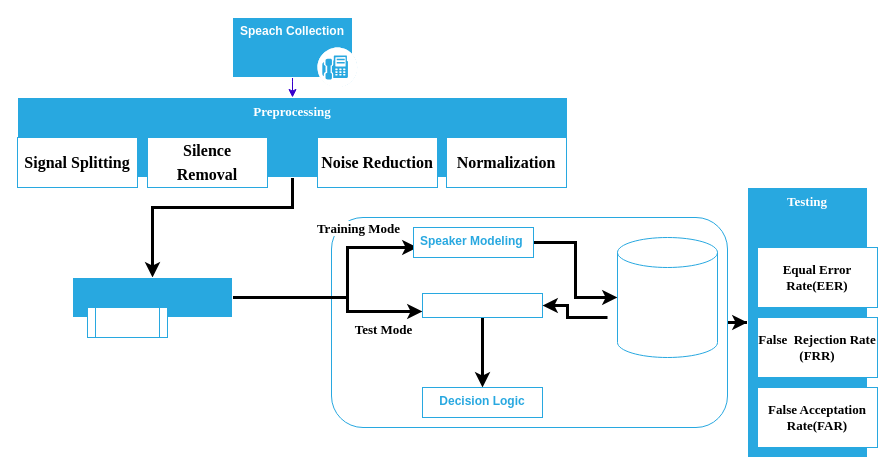
Some shapes in this 895 by 475 pixel diagram are drawn without their labels. The shapes that lost their labels are listed below. From the top down, each one's centre as x and y in pixels, then its label:
the point at 152,297: Feature Extraction
the point at 482,305: Feature Matching
the point at 667,297: Speaker Model Database
the point at 127,322: MFCC
